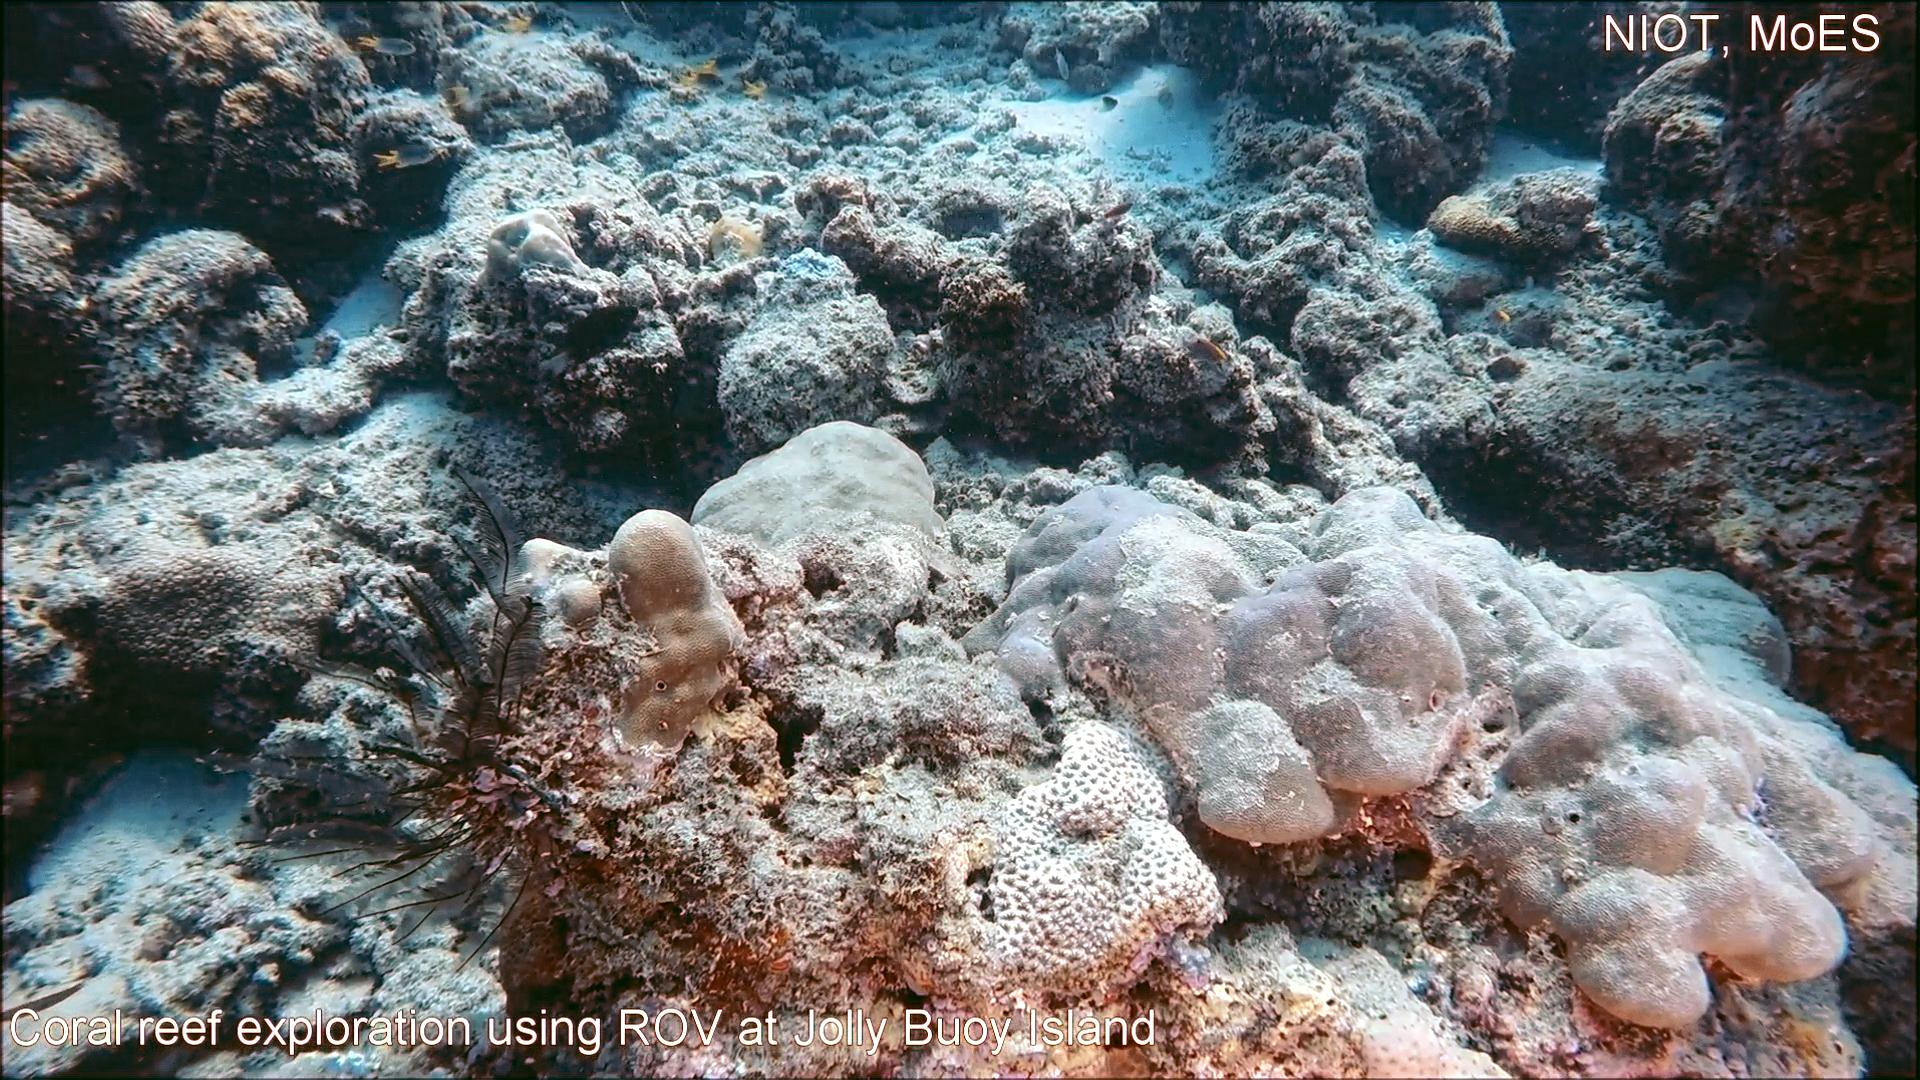Feather star-Crinoid star: (185, 456, 579, 978)
Goniastrea-Goniastrea pectinata: (982, 712, 1230, 1019)
Porites-Porites pukoensis: (1324, 479, 1920, 1039)
Turbinaria-Turbinaria stellulata: (76, 545, 349, 692)
